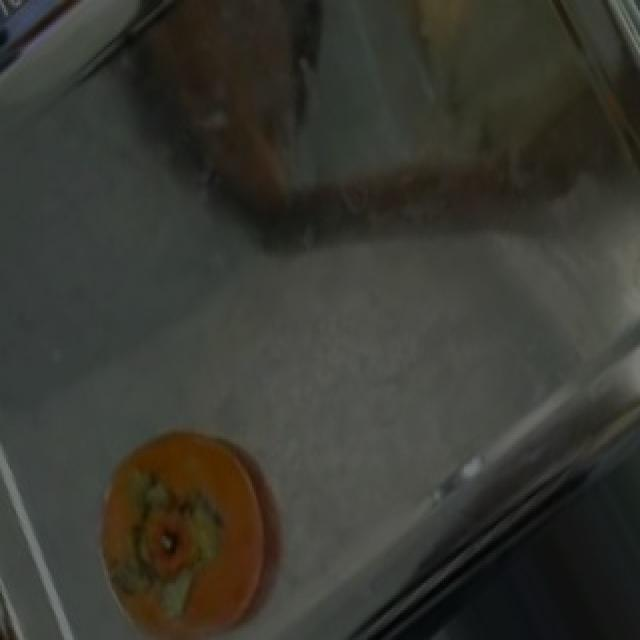Fruit: (76, 402, 296, 640)
